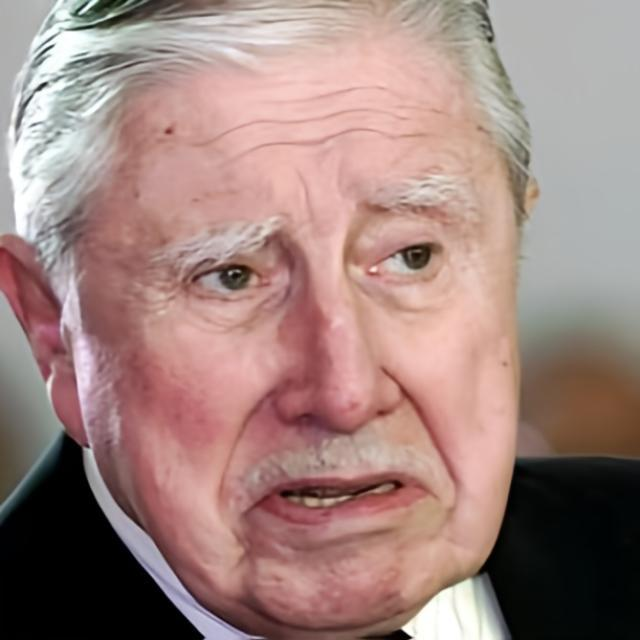disgust: (75, 32, 522, 632)
